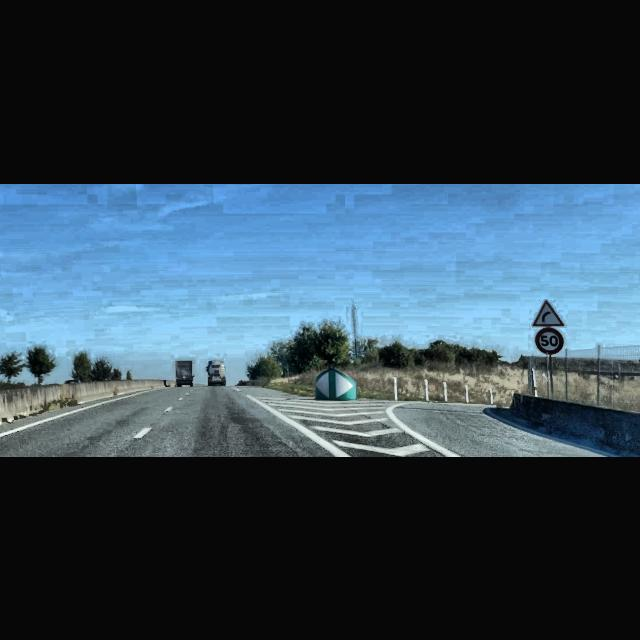speed_50: (534, 326, 564, 354)
